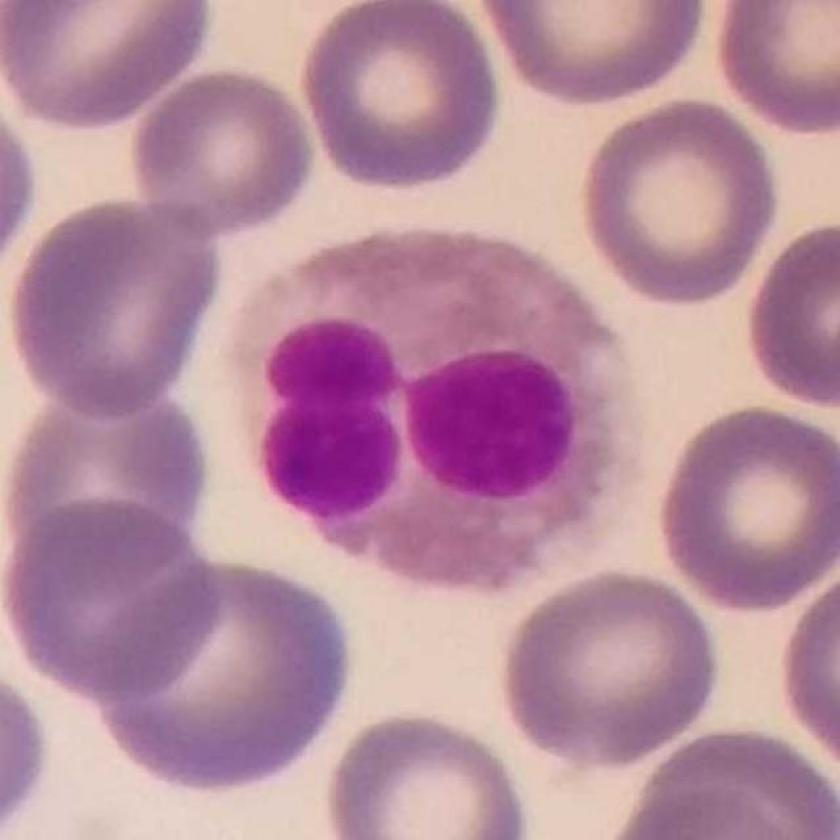eosinophil: (231, 222, 646, 595)
